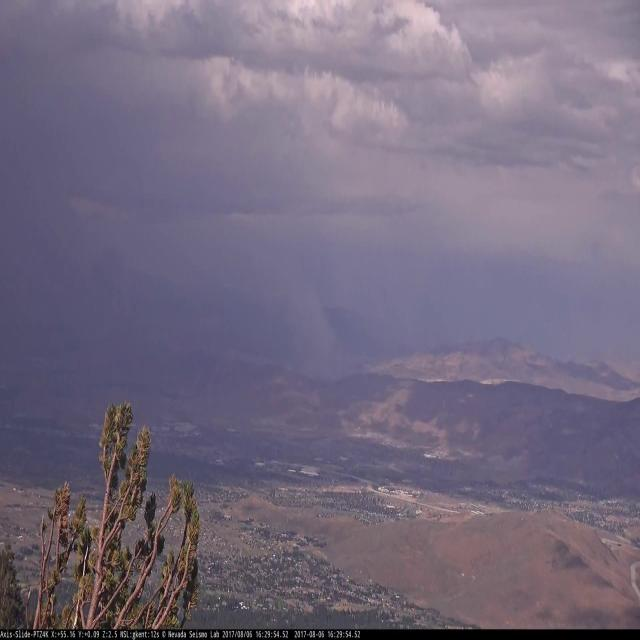smoke: (256, 251, 343, 381)
